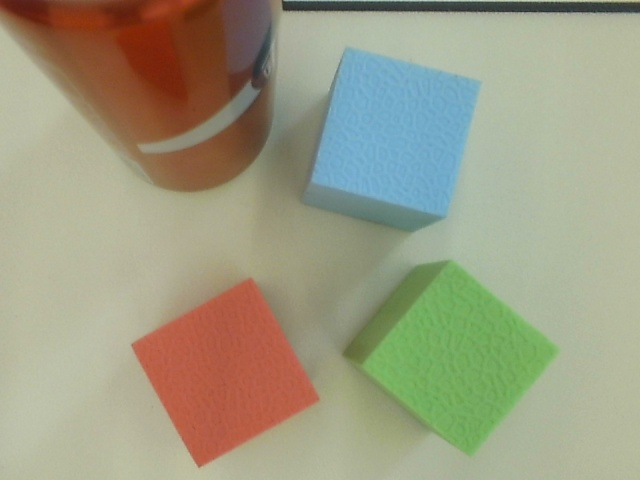bluecube: (296, 38, 491, 235)
cola: (1, 1, 278, 196)
greencube: (338, 260, 568, 462)
redcube: (124, 273, 330, 470)
